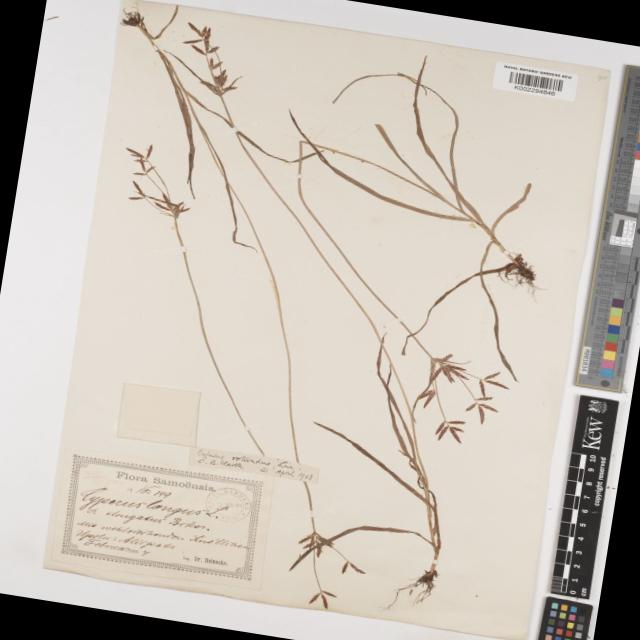Lolium: (274, 516, 373, 618)
cyperus: (388, 348, 522, 454), (162, 18, 260, 107), (106, 142, 195, 236)
